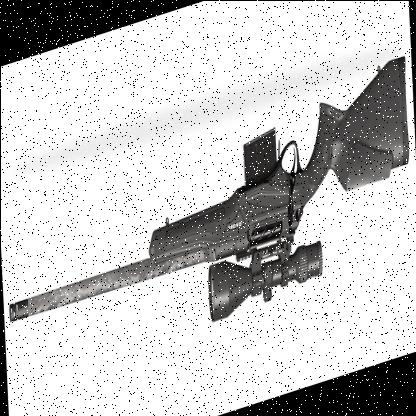rifle: (1, 43, 413, 369)
